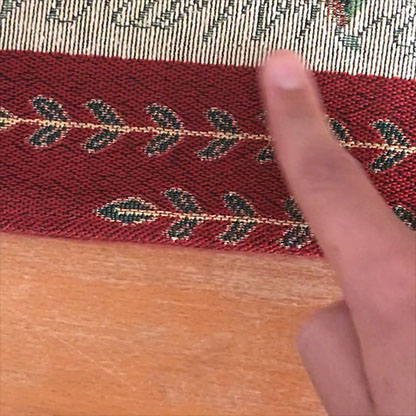fingertip: (256, 34, 324, 108)
